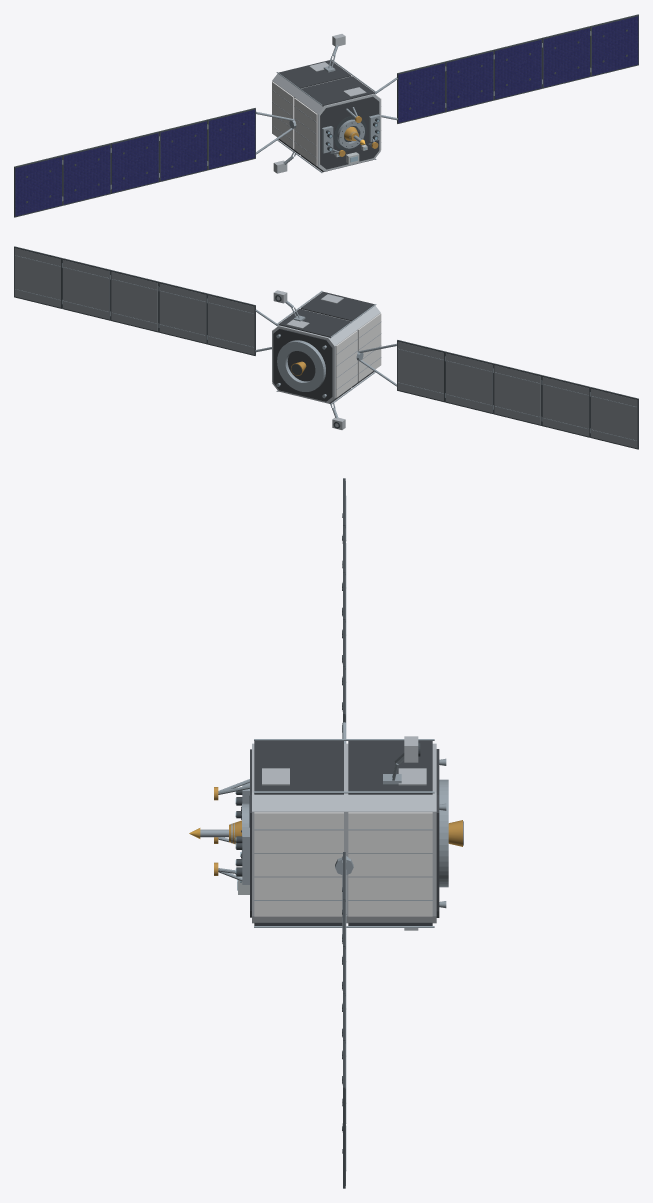
Rendered from mev.glb.
3 views of the same model, one above another, from view 1: azimuth 30°, elevation 25°; view 2: azimuth 150°, elevation 25°; view 3: azimuth 270°, elevation 25° (orthographic). The views are drawn at different scales.
Parts seen in each view (by area): view 1: Solar cell panel (×10), Solar panel frame (×10), Radiator panel (×2), Side blanket bay (×2), Docking face blanket, Service bus, Capture mechanism collar, Capture mechanism recess; view 2: Rear array substrate (×10), Solar panel frame (×10), Radiator panel (×2), Aft deck blanket, Side blanket bay (×2), Launch adapter ring, Service bus; view 3: Radiator panel (×2), Side blanket bay (×2), Service bus, Launch adapter ring.
Part boxes in pixels (x1,y1,x2,y2): Solar cell panel (×10): [15, 16, 638, 216]; Solar panel frame (×10): [14, 14, 638, 217]; Radiator panel (×2): [272, 81, 317, 165]; Side blanket bay (×2): [279, 60, 374, 106]; Docking face blanket: [320, 96, 379, 169]; Service bus: [272, 60, 380, 171]; Capture mechanism collar: [337, 119, 364, 148]; Capture mechanism recess: [333, 115, 366, 150]; Rear array substrate (×10): [14, 248, 637, 448]; Solar panel frame (×10): [14, 246, 638, 449]; Radiator panel (×2): [335, 313, 381, 397]; Aft deck blanket: [273, 328, 332, 401]; Side blanket bay (×2): [278, 291, 374, 338]; Launch adapter ring: [277, 340, 325, 391]; Service bus: [272, 305, 380, 403]; Radiator panel (×2): [254, 812, 432, 916]; Side blanket bay (×2): [254, 741, 432, 794]; Service bus: [252, 743, 436, 923]; Launch adapter ring: [439, 779, 448, 887].
Size of the model in its own units: 24.98 by 4.62 by 4.75.
Materials: 11 (1 with a texture image).
